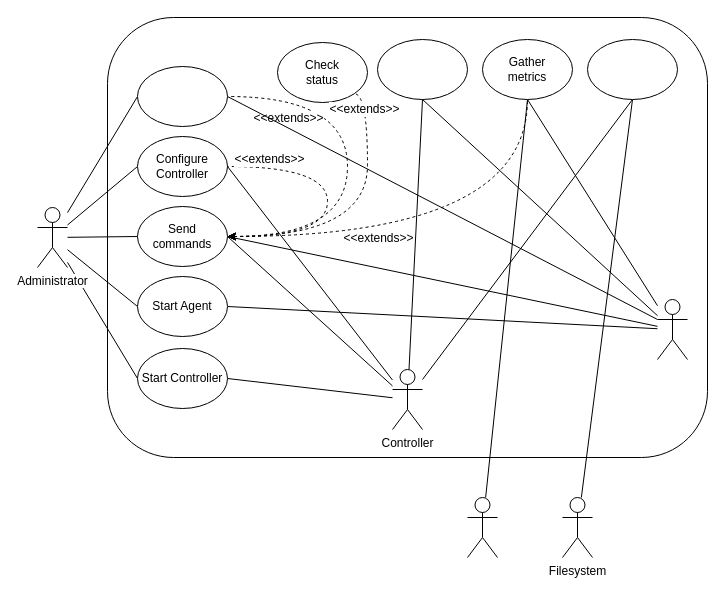
Some shapes in this 725 by 611 pixel diagram are drawn without their labels. The centre of each missing label's shape, as x and y in pixels:
"Agent" goes at point (672, 329).
"Configure Agent" goes at point (182, 96).
"Operating System" goes at point (482, 527).
"Save data" goes at point (632, 69).
"Transmit gathered metrics" goes at point (422, 69).
